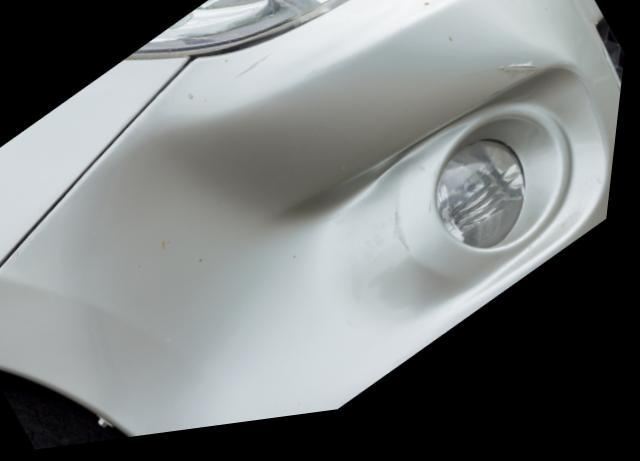dent: (95, 125, 437, 442)
